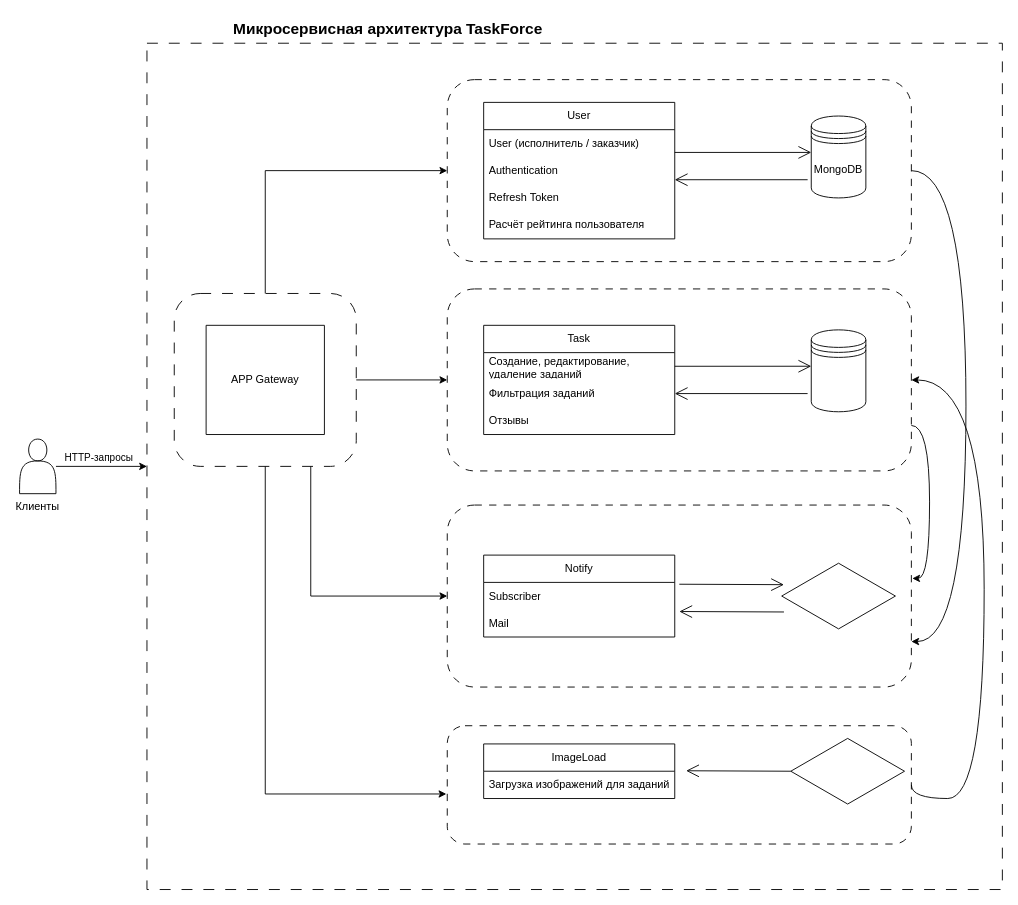
Some shapes in this 1018 by 905 pixel diagram are drawn without their labels. The shapes that lost their labels are listed below. From the top down, each one's centre as x and y in pixels, then its label:
At (x=838, y=370): "PostgreSQL".
At (x=838, y=595): "RabbitMQ".
At (x=847, y=770): "внешнее хранилище".
